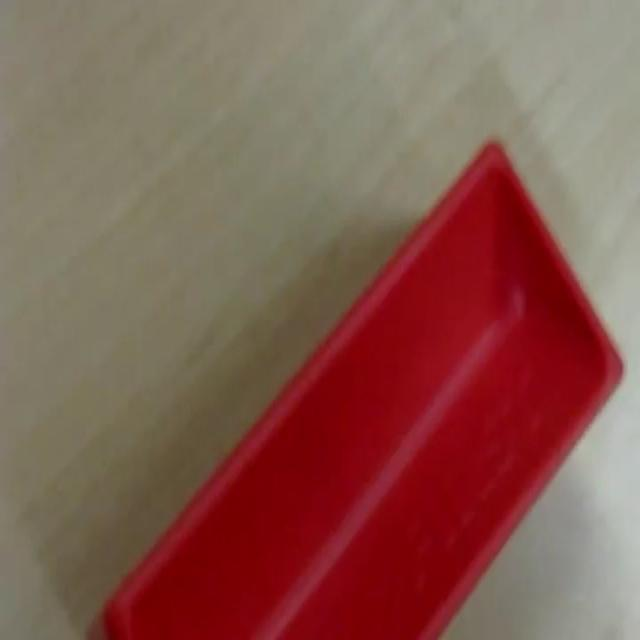red_block: (86, 136, 625, 637)
